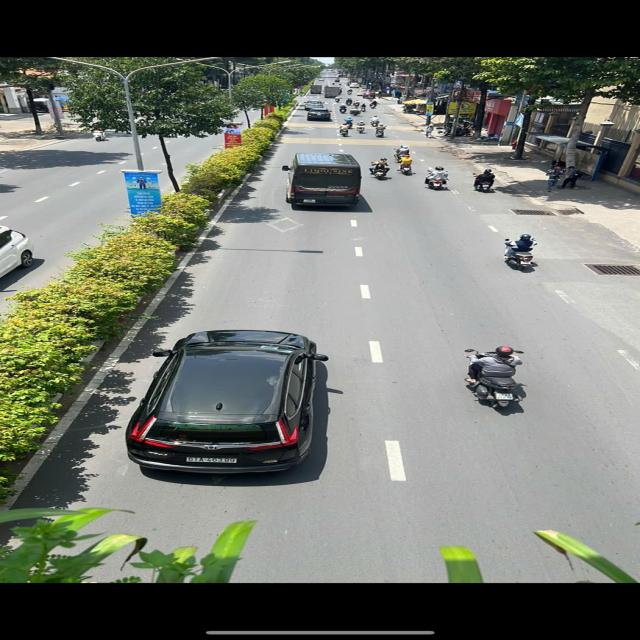car: (116, 328, 340, 482), (278, 151, 368, 213), (305, 106, 333, 122), (302, 98, 326, 111)
motobyte: (454, 344, 539, 414), (496, 232, 547, 272), (471, 168, 502, 194), (423, 166, 452, 192), (370, 155, 392, 180), (393, 143, 417, 165), (395, 154, 418, 175), (336, 122, 355, 138), (373, 122, 389, 138), (355, 119, 370, 134)
